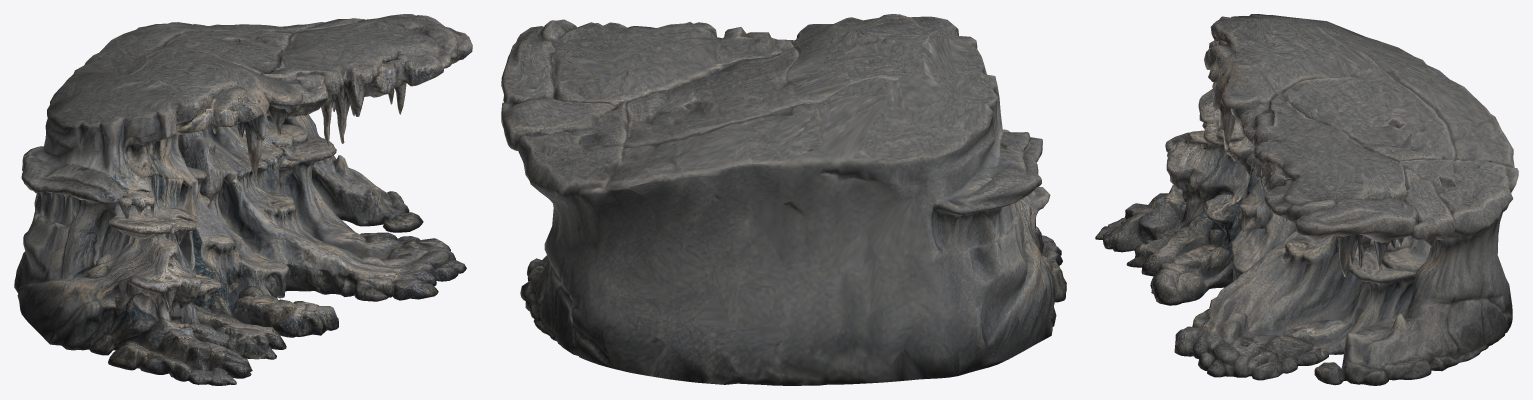
The model's file is cavern-buttress.glb.
3 views of the same model, side by side, from view 1: azimuth 30°, elevation 25°; view 2: azimuth 150°, elevation 25°; view 3: azimuth 270°, elevation 25° (orthographic). The views are drawn at different scales.
Visible parts, largest first — view 1: cavern-buttress_LOD0; view 2: cavern-buttress_LOD0; view 3: cavern-buttress_LOD0.
Boxes of the visible parts, bbox=[...] form: cavern-buttress_LOD0: bbox=[14, 14, 472, 385]; cavern-buttress_LOD0: bbox=[501, 14, 1066, 385]; cavern-buttress_LOD0: bbox=[1095, 14, 1518, 385].
Size of what is drawn, in the model's own units: 1.9 by 0.9505 by 1.6.
Materials: 1 (1 with a texture image).
